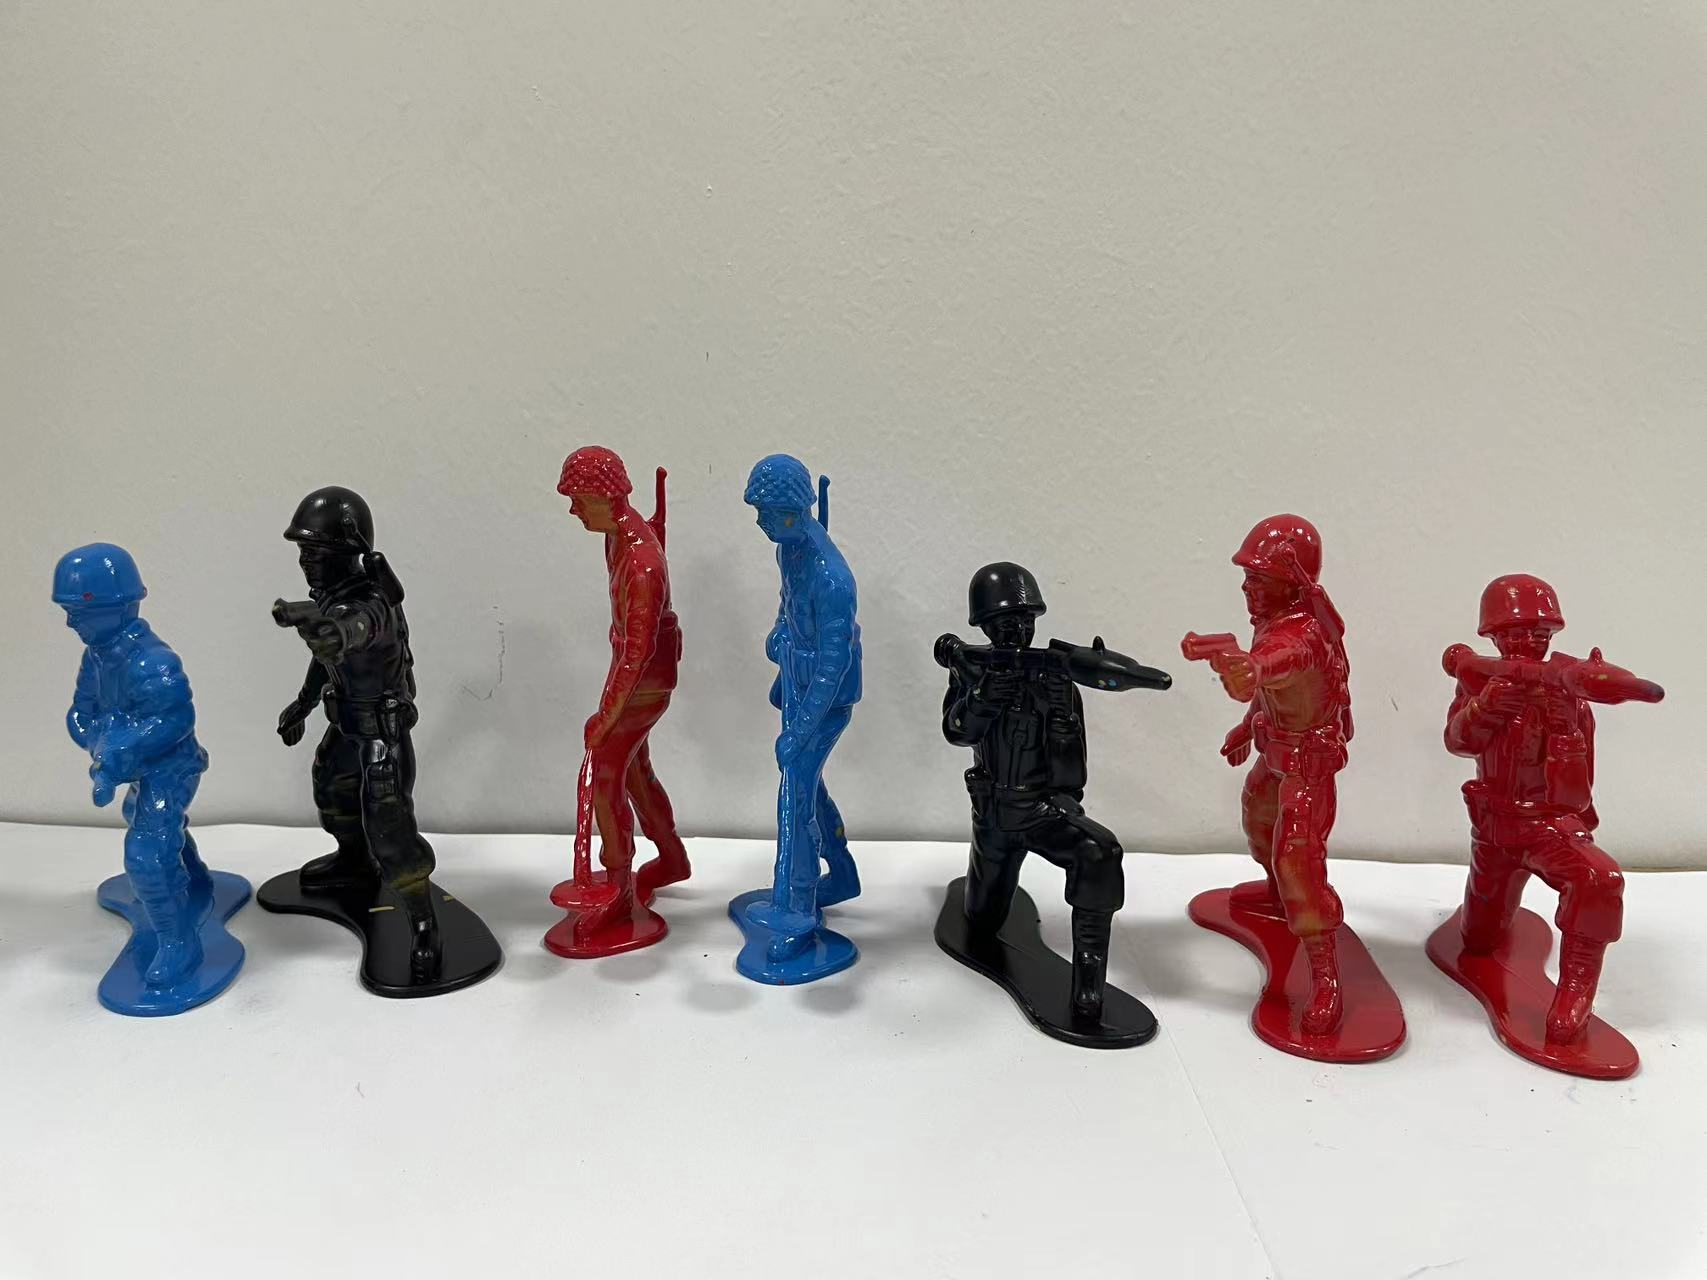black: (253, 454, 520, 1026), (910, 549, 1164, 1062)
blue: (34, 504, 259, 1021), (718, 433, 888, 1033)
red: (1407, 561, 1695, 1104), (1176, 484, 1415, 1092), (523, 418, 700, 987)
